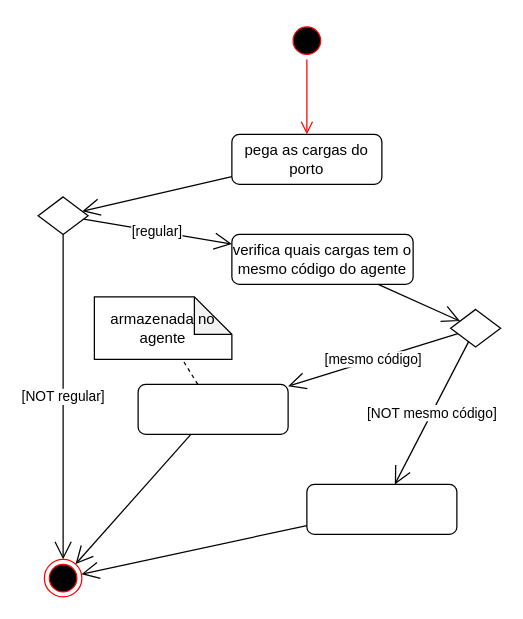
Some shapes in this 523 by 619 pixel diagram are drawn without their labels. Each missing label, with the centre of its shape:
carga entregue: point (212, 408)
devolve carga para o porto: point (381, 508)
